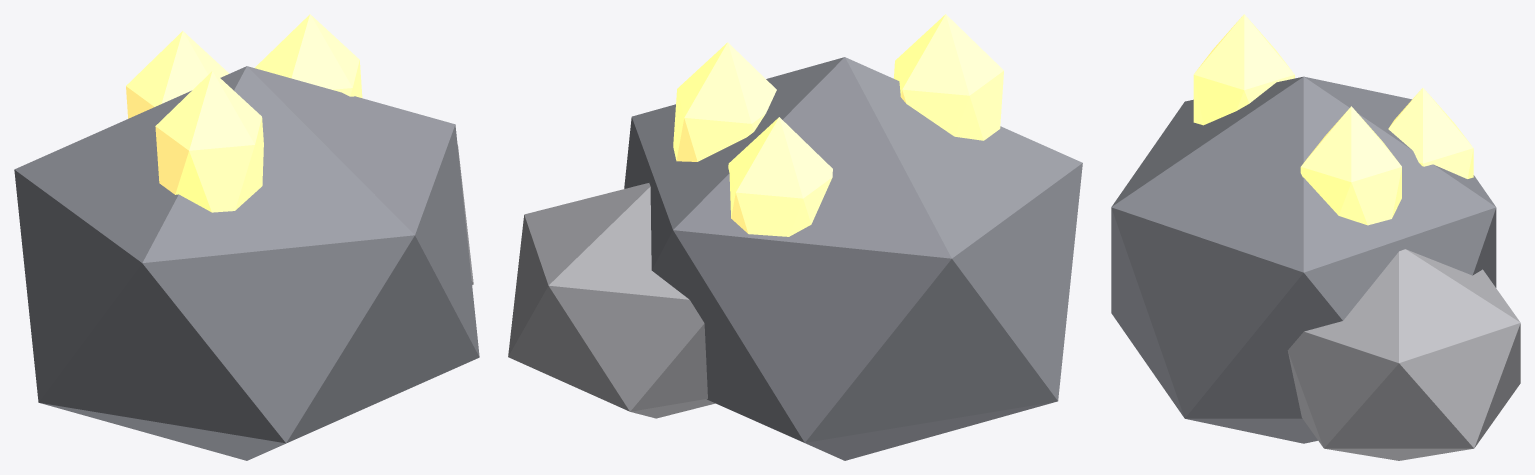
The model's file is gold_node.glb.
3 views of the same model, side by side, from view 1: azimuth 30°, elevation 25°; view 2: azimuth 150°, elevation 25°; view 3: azimuth 270°, elevation 25° (orthographic). The views are drawn at different scales.
Visible parts, largest first — view 1: GoldNodeRock; view 2: GoldNodeRock; view 3: GoldNodeRock.
Part boxes in pixels (x1,y1,x2,y2): GoldNodeRock: [14, 14, 479, 460]; GoldNodeRock: [508, 14, 1082, 460]; GoldNodeRock: [1111, 14, 1520, 460].
Bounding box in the file's own units: 0.8482 × 0.74 × 0.6874.
